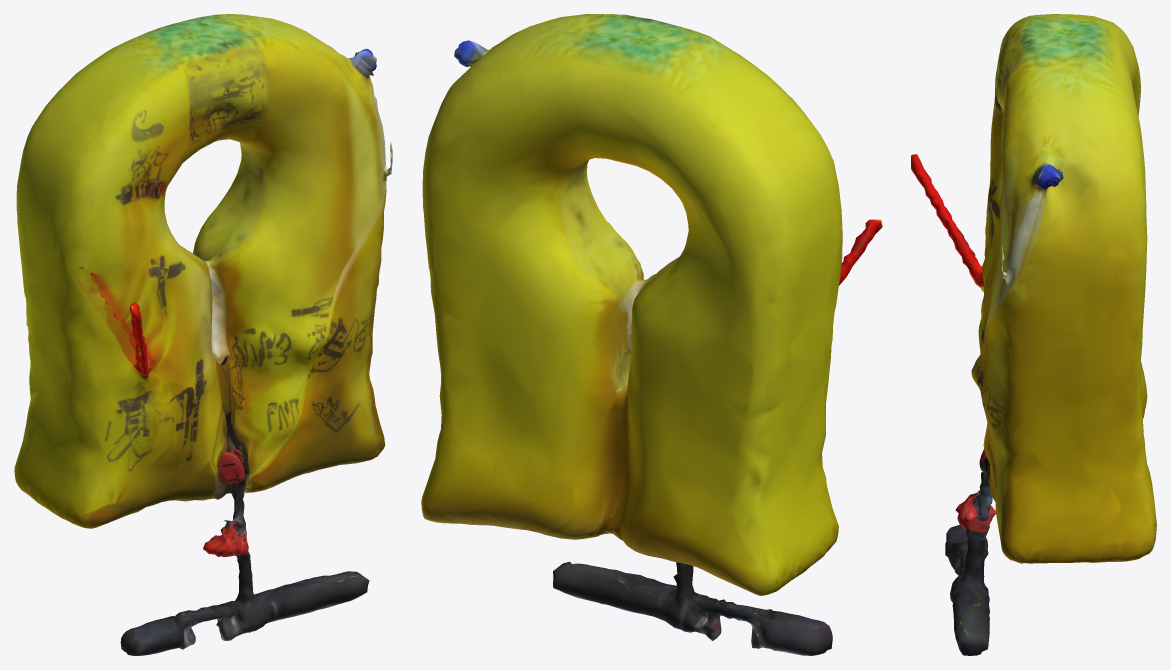
3 renders of one model, left to right at view 1: azimuth 30°, elevation 25°; view 2: azimuth 150°, elevation 25°; view 3: azimuth 270°, elevation 25°, orthographic. The views are drawn at different scales.
Parts seen in each view (by area): view 1: Mesh_0; view 2: Mesh_0; view 3: Mesh_0.
Part boxes in pixels (x1,y1,x2,y2): Mesh_0: (14, 14, 392, 655); Mesh_0: (421, 14, 882, 655); Mesh_0: (911, 14, 1156, 655).
Size of the model in its own units: 72.97 by 120 by 46.42.
1 material, 1 textured.
